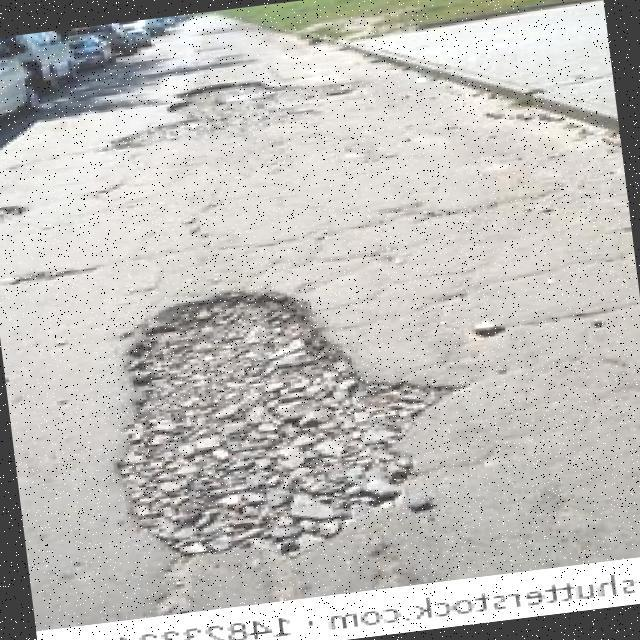Pothole: (116, 289, 445, 564), (104, 78, 364, 150), (0, 205, 25, 222)
